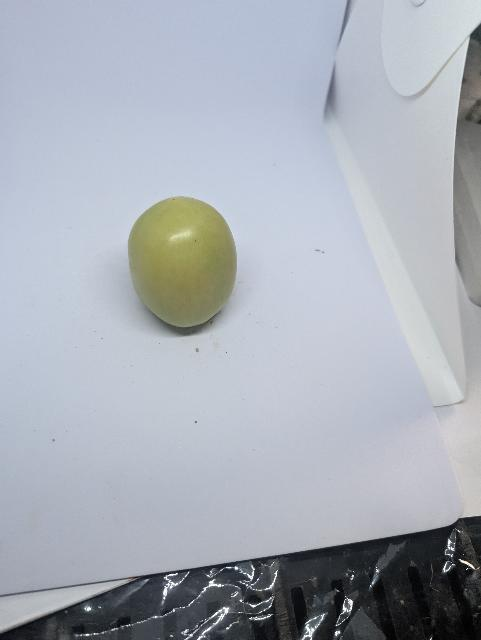green: (125, 195, 241, 331)
